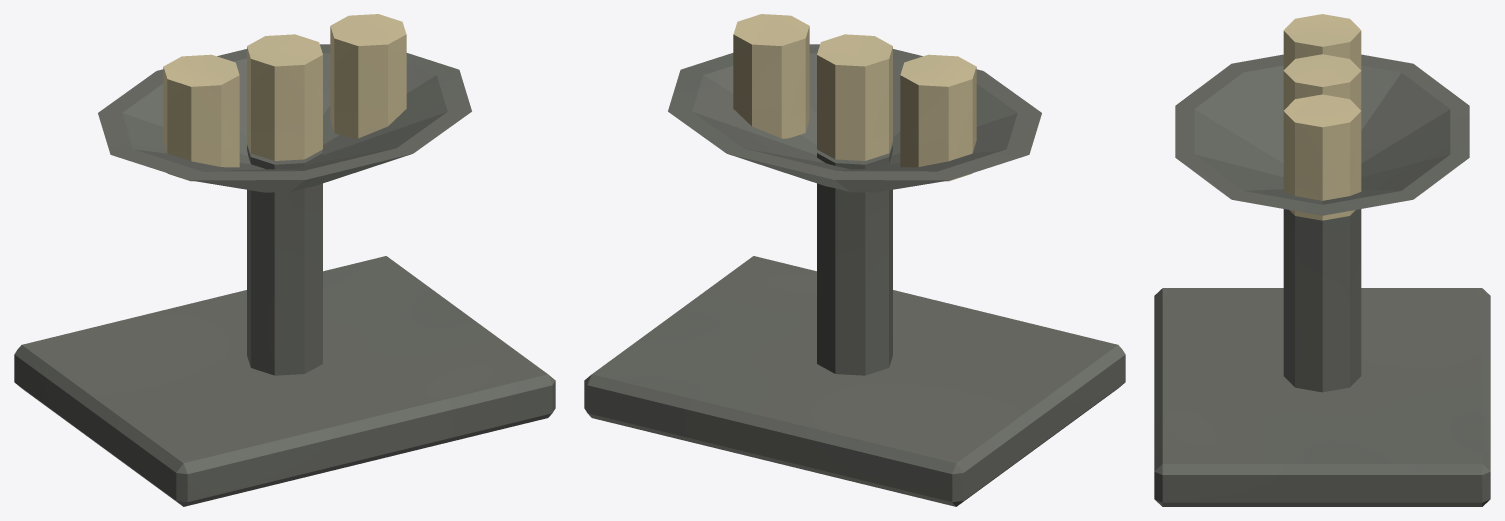
The model's file is WarrensC_WVC064_CandleHolder_Mars_SM.fbx.
3 renders of one model, left to right at view 1: azimuth 30°, elevation 25°; view 2: azimuth 150°, elevation 25°; view 3: azimuth 270°, elevation 25°, orthographic.
Visible parts, largest first — view 1: WarrensC_WVC064_CandleHolder_Mars_SM.001; view 2: WarrensC_WVC064_CandleHolder_Mars_SM.001; view 3: WarrensC_WVC064_CandleHolder_Mars_SM.001.
Part boxes in pixels (<box>): WarrensC_WVC064_CandleHolder_Mars_SM.001: <box>14,14,555,506</box>; WarrensC_WVC064_CandleHolder_Mars_SM.001: <box>584,14,1125,506</box>; WarrensC_WVC064_CandleHolder_Mars_SM.001: <box>1154,14,1490,506</box>.
Size of the model in its own units: 45 by 35 by 40.
